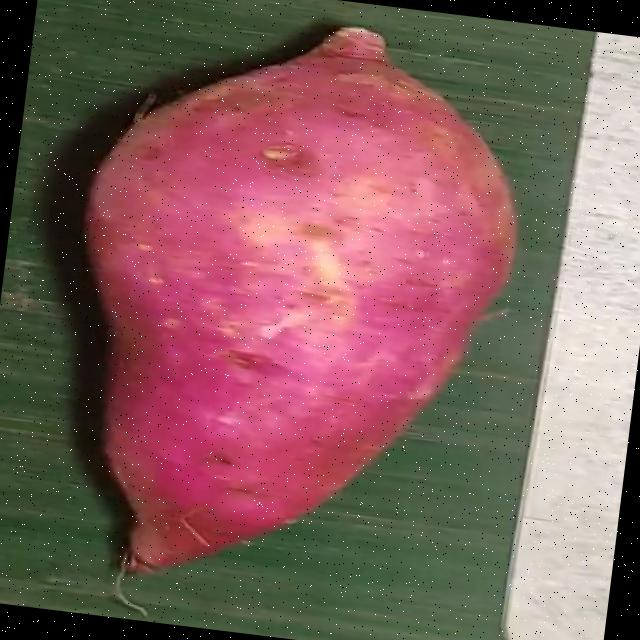Sweet Potato: (82, 25, 519, 575)
